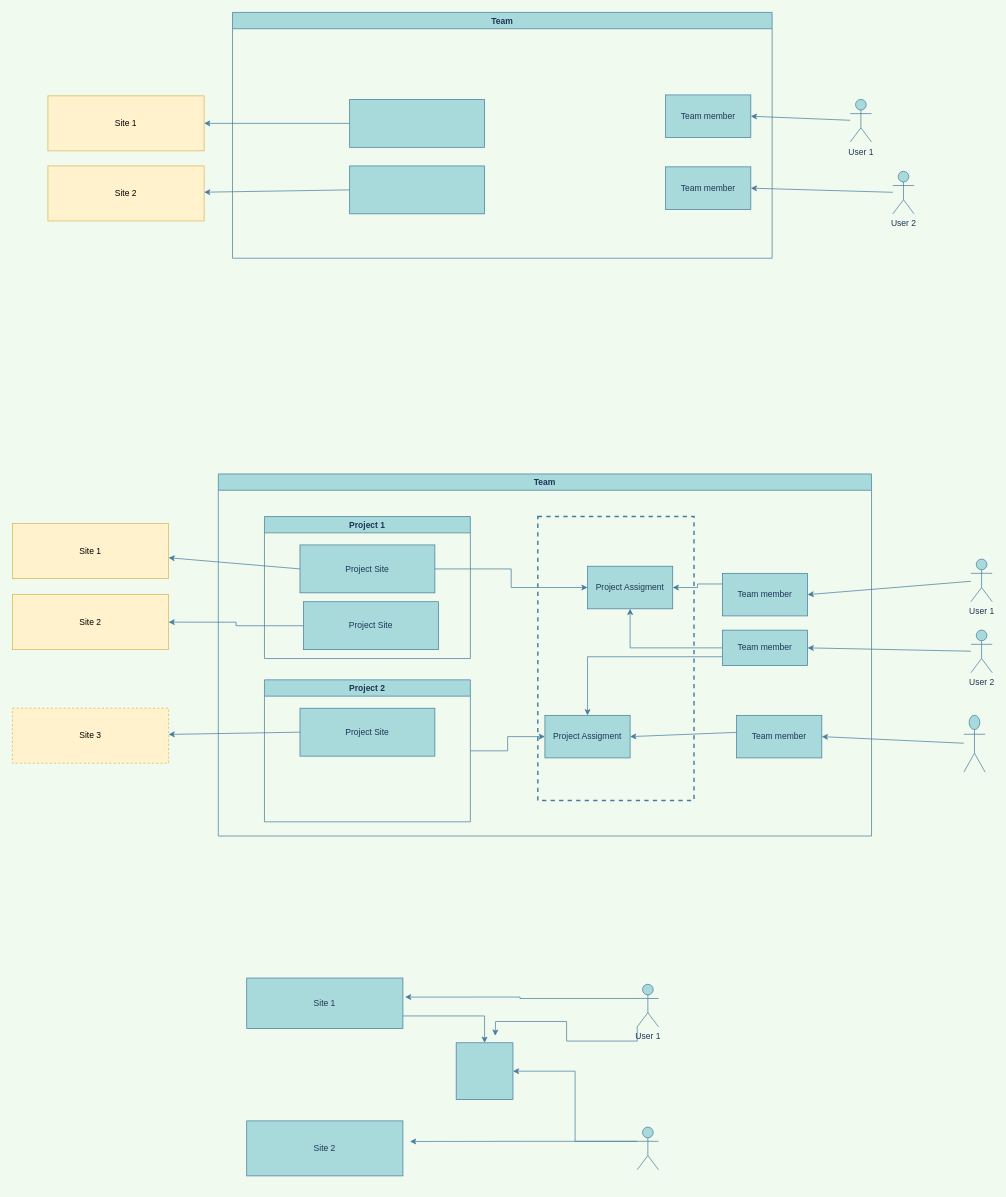
This 1006x1197 diagram has some shape labels left out. Here are the shapes that lost their labels. From the top down, the centre of each, then its label:
At (417,123): "Client 1".
At (417,189): "Client 2".
At (974,743): "User 3".
At (484,1071): "Site assigment 1".
At (648,1148): "User".
